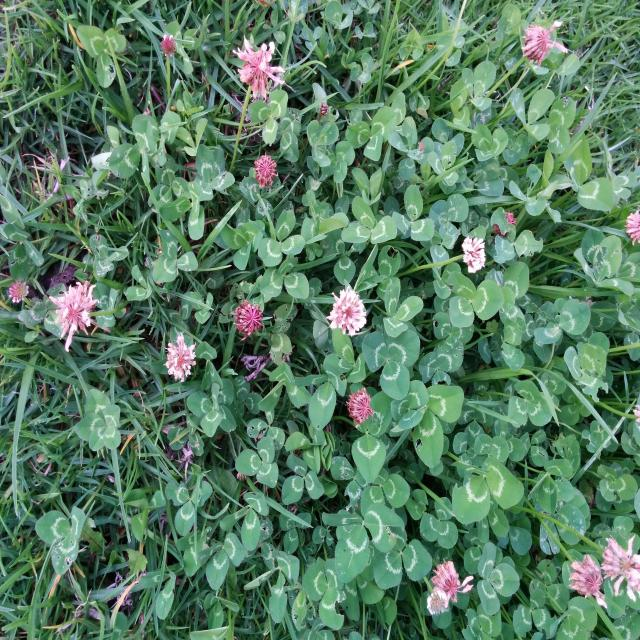Four Leaf Clover: (74, 389, 121, 451)
